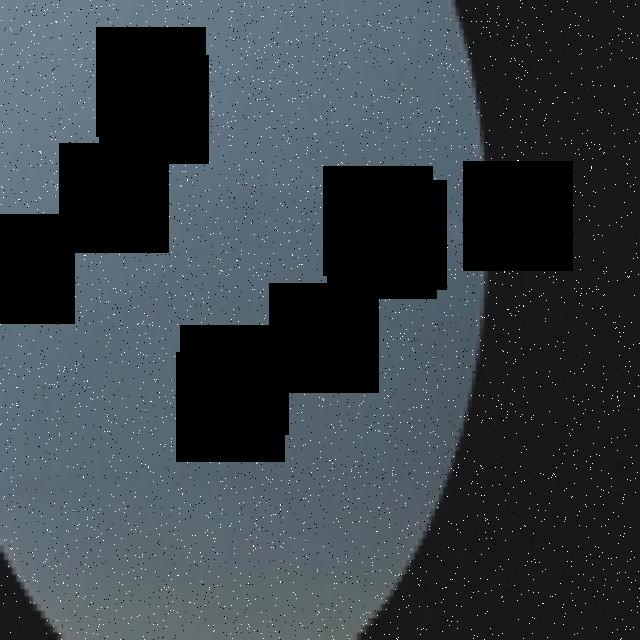Uranus: (0, 0, 492, 640)
